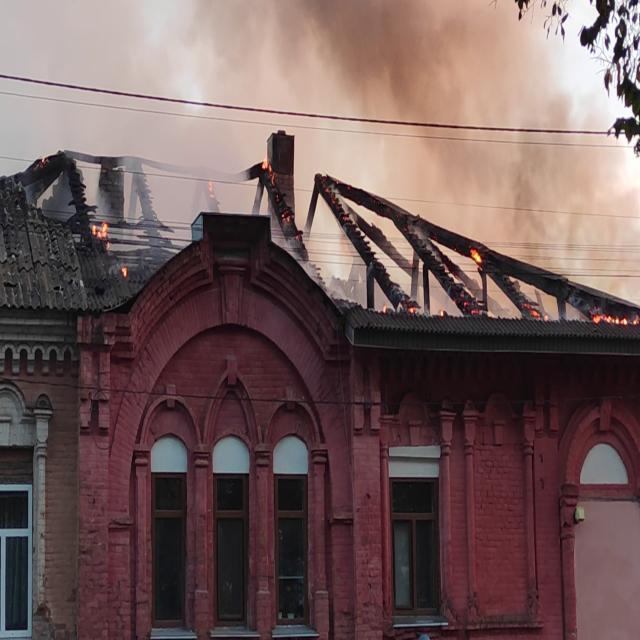fire: (252, 152, 290, 229), (91, 217, 133, 279), (467, 239, 494, 286)
smoke: (332, 0, 509, 190)
